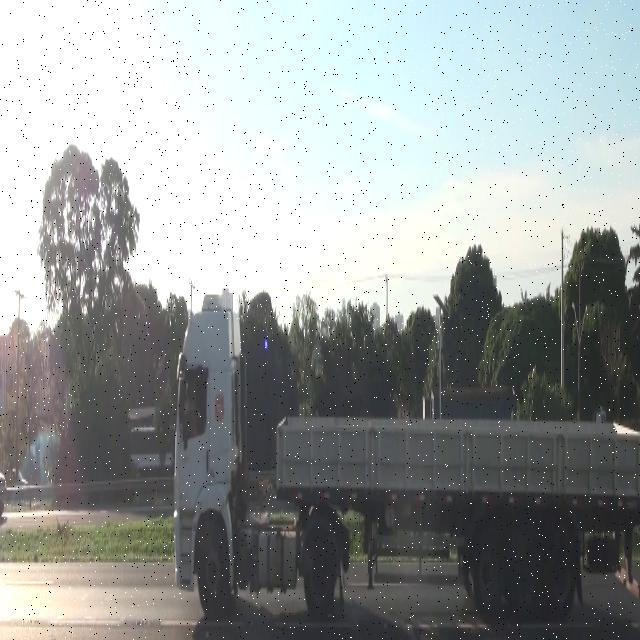-axle: (505, 511, 540, 623), (544, 508, 578, 622), (301, 520, 338, 620), (196, 518, 228, 619), (473, 520, 501, 620)
